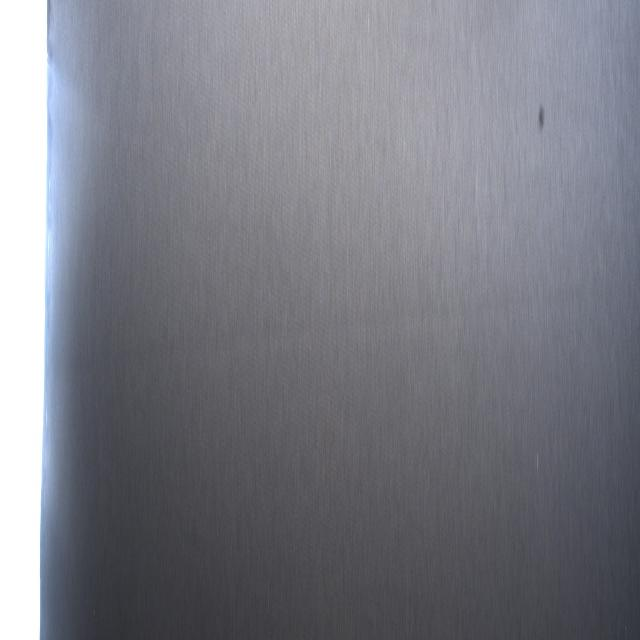crease: (105, 298, 526, 377), (607, 39, 618, 165)
whiteDefect: (536, 446, 539, 473)
